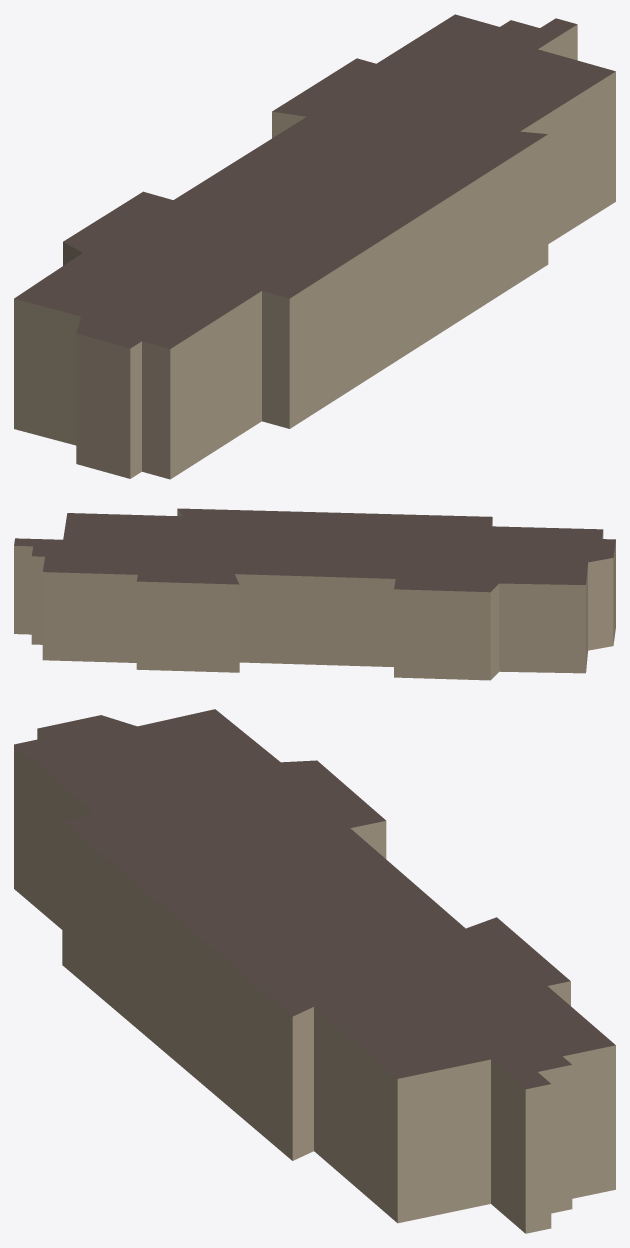
3 renders of one model, top to bottom at view 1: azimuth 30°, elevation 25°; view 2: azimuth 150°, elevation 25°; view 3: azimuth 270°, elevation 25°, orthographic. The views are drawn at different scales.
Visible parts, largest first — view 1: HP-w1512459918; view 2: HP-w1512459918; view 3: HP-w1512459918.
Part boxes in pixels (<box>): HP-w1512459918: <box>14,14,615,479</box>; HP-w1512459918: <box>14,508,615,680</box>; HP-w1512459918: <box>14,709,615,1233</box>.
Bounding box in the file's own units: 50.82 × 9 × 33.99.
